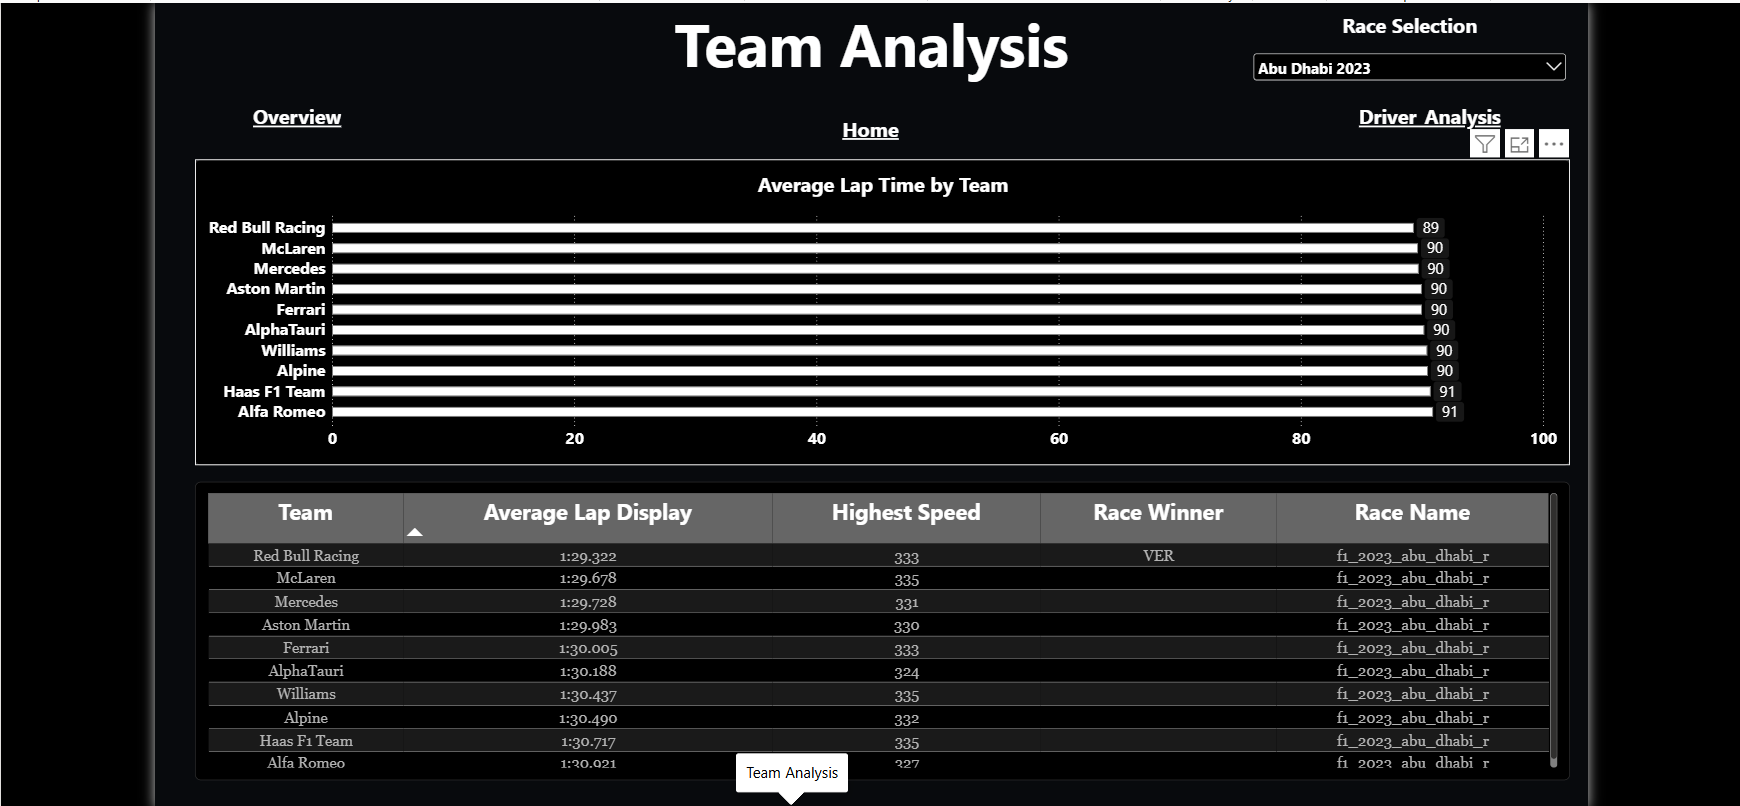

The page's visual inventory and layout, read from the dashboard file:
{"tool":"powerbi","page":{"name":"Team Analysis ","canvas":[1920,1080],"ordinal":4},"visuals":[{"type":"textbox","box":[549.4,0,821.6,135.7],"z":0},{"type":"slicer","title":"Race Selection ","fields":{"Values":["public f1_all_sessions.Race"]},"box":[1467.3,11.7,428,112.7],"z":1000},{"type":"actionButton","box":[842.5,129,232.6,80.3],"z":2000},{"type":"actionButton","box":[53.6,112.2,273.8,80.3],"z":3000},{"type":"actionButton","box":[1520.9,112.2,374.6,80.3],"z":4000},{"type":"clusteredBarChart","fields":{"Category":["public f1_all_sessions.Team"],"Y":["public f1_all_sessions.Average Lap Time"]},"box":[53.6,209.4,1842.4,410.4],"z":7000},{"type":"tableEx","fields":{"Values":["public f1_all_sessions.Team","public f1_all_sessions.Average Lap Display","public f1_all_sessions.Highest Speed","public f1_all_sessions.Race Winner","public f1_all_sessions.source"]},"box":[53.6,641.5,1842.4,400.3],"z":10000}]}

Visuals, with their boxes on the page's 1920x1080 design canvas (x1, y1, x2, y2). These are canvas units, not pixel positions in the 1740x806 screenshot, which may show the page scaled, cropped or inside an application window:
textbox: bbox=(549, 0, 1371, 136)
"Race Selection " slicer: bbox=(1467, 12, 1895, 124)
actionButton: bbox=(842, 129, 1075, 209)
actionButton: bbox=(54, 112, 327, 192)
actionButton: bbox=(1521, 112, 1896, 192)
clusteredBarChart - public f1_all_sessions.Team x public f1_all_sessions.Average Lap Time: bbox=(54, 209, 1896, 620)
tableEx - public f1_all_sessions.Team x public f1_all_sessions.Average Lap Display: bbox=(54, 642, 1896, 1042)
